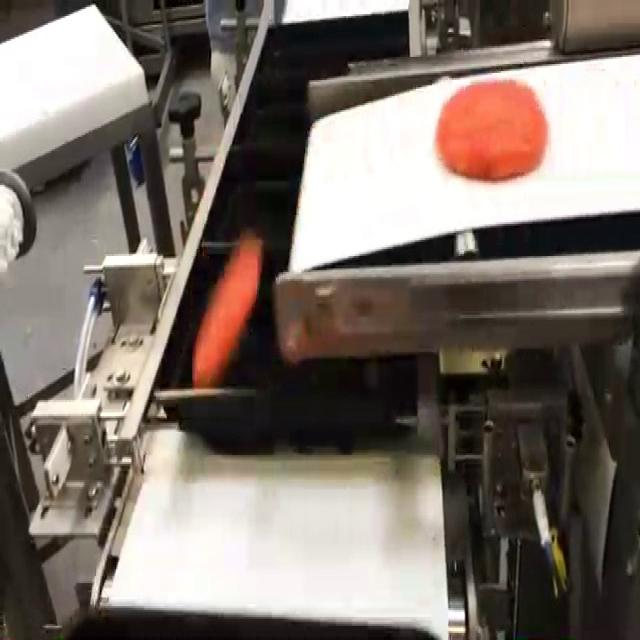hamburguer: (435, 80, 547, 180)
